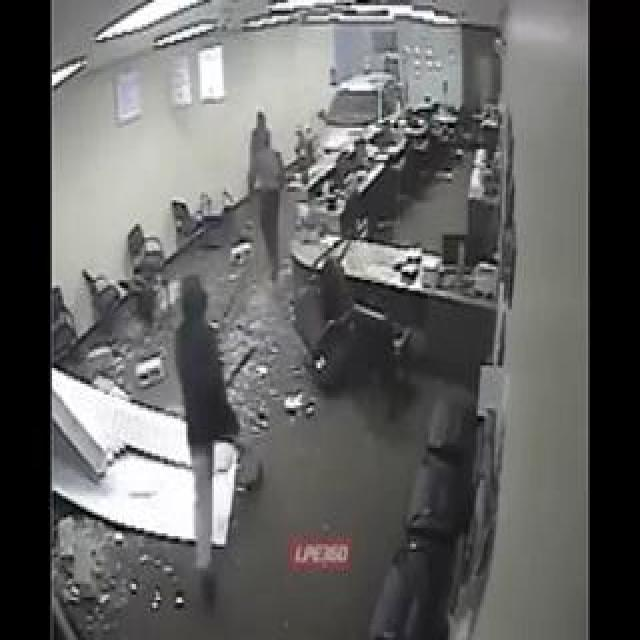thief: (158, 245, 233, 349), (245, 106, 284, 182)
